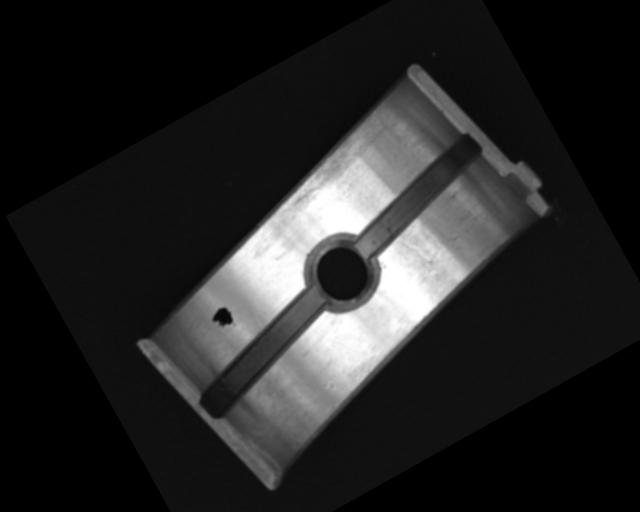blot: (206, 302, 239, 335)
bruise: (441, 231, 467, 256), (323, 377, 339, 395)
gap: (179, 282, 350, 419), (335, 130, 502, 260)
hole: (291, 221, 391, 323)
nick: (395, 227, 441, 285)
scratch: (257, 107, 404, 221)
